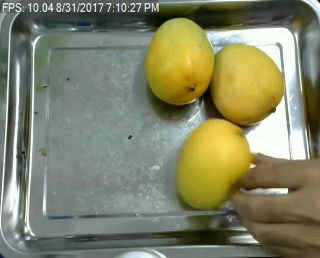Mango: (168, 115, 256, 204), (210, 41, 288, 127), (145, 16, 218, 104)
